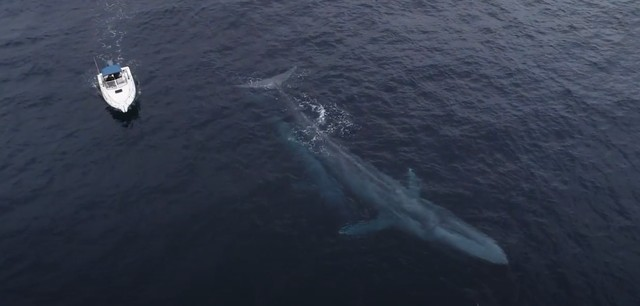whale: (228, 61, 513, 278)
